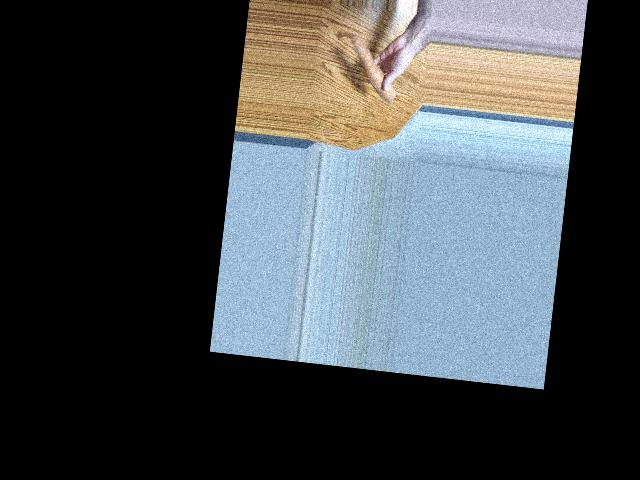sweet_potato: (347, 36, 403, 98)
